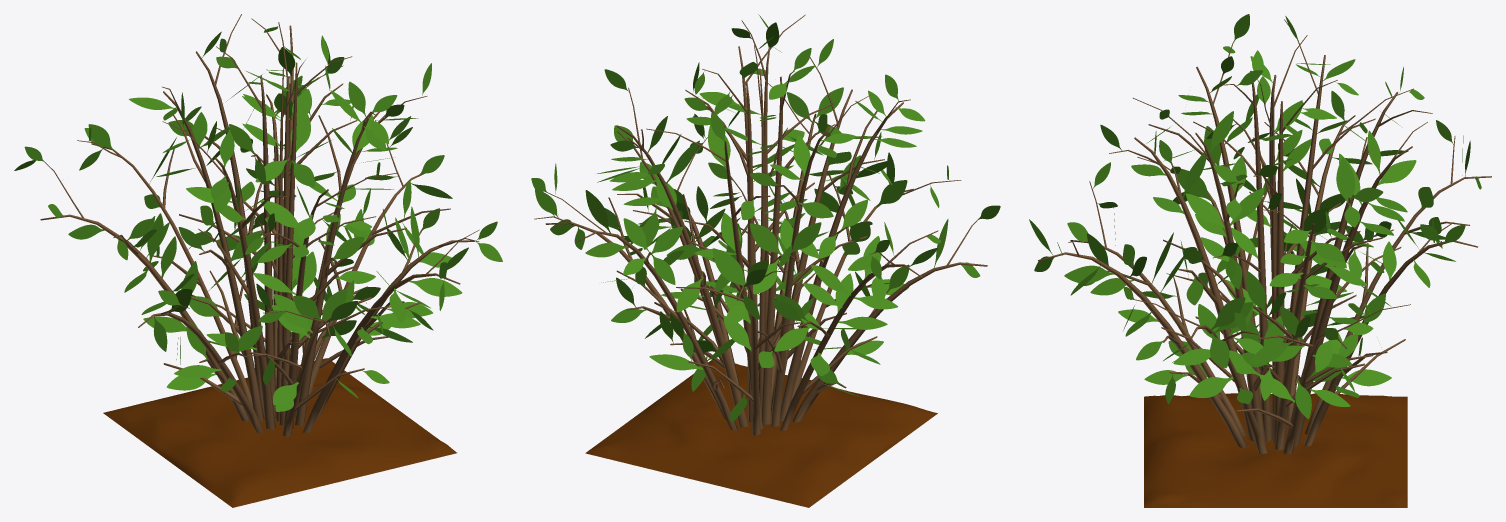
The model's file is forsythia.glb.
3 views of the same model, side by side, from view 1: azimuth 30°, elevation 25°; view 2: azimuth 150°, elevation 25°; view 3: azimuth 270°, elevation 25° (orthographic).
Visible parts, largest first — view 1: 5_summer_nft; view 2: 5_summer_nft; view 3: 5_summer_nft.
Boxes of the visible parts, box(x1,y1,x2,y2) form: 5_summer_nft: box(14, 14, 502, 507); 5_summer_nft: box(531, 14, 1000, 507); 5_summer_nft: box(1029, 14, 1491, 507).
Size of the model in its own units: 2.47 by 2.4 by 2.46.
